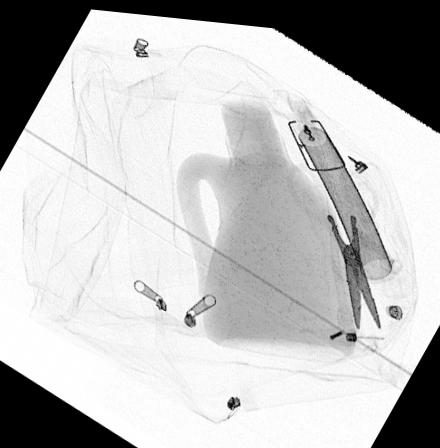Scissors: (285, 153, 383, 323)
